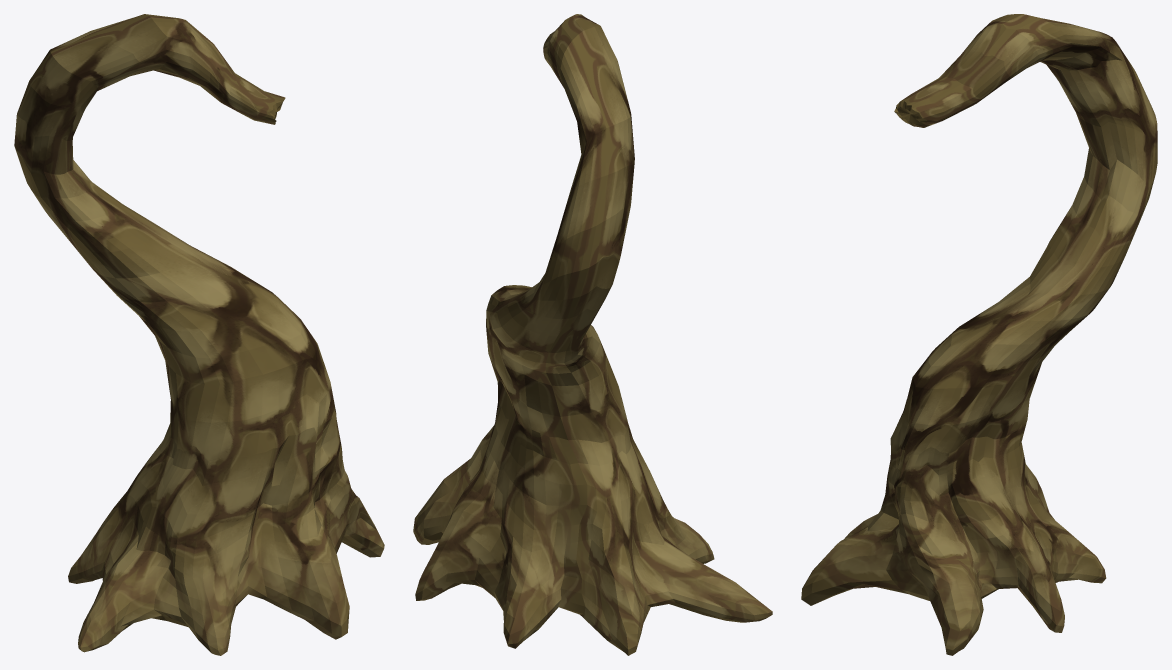
The model's file is treeBaseHook.fbx.
The picture shows the model from 3 angles, left to right: view 1: azimuth 30°, elevation 25°; view 2: azimuth 150°, elevation 25°; view 3: azimuth 270°, elevation 25°; orthographic projection. The views are drawn at different scales.
Parts seen in each view (by area): view 1: pCylinder20; view 2: pCylinder20; view 3: pCylinder20.
Boxes of the visible parts, x1,y1,x2,y2 form: pCylinder20: (14, 14, 384, 655); pCylinder20: (413, 14, 772, 655); pCylinder20: (801, 14, 1157, 655).
Bounding box in the file's own units: 616 × 1040 × 599.
Materials: 1 (1 with a texture image).
